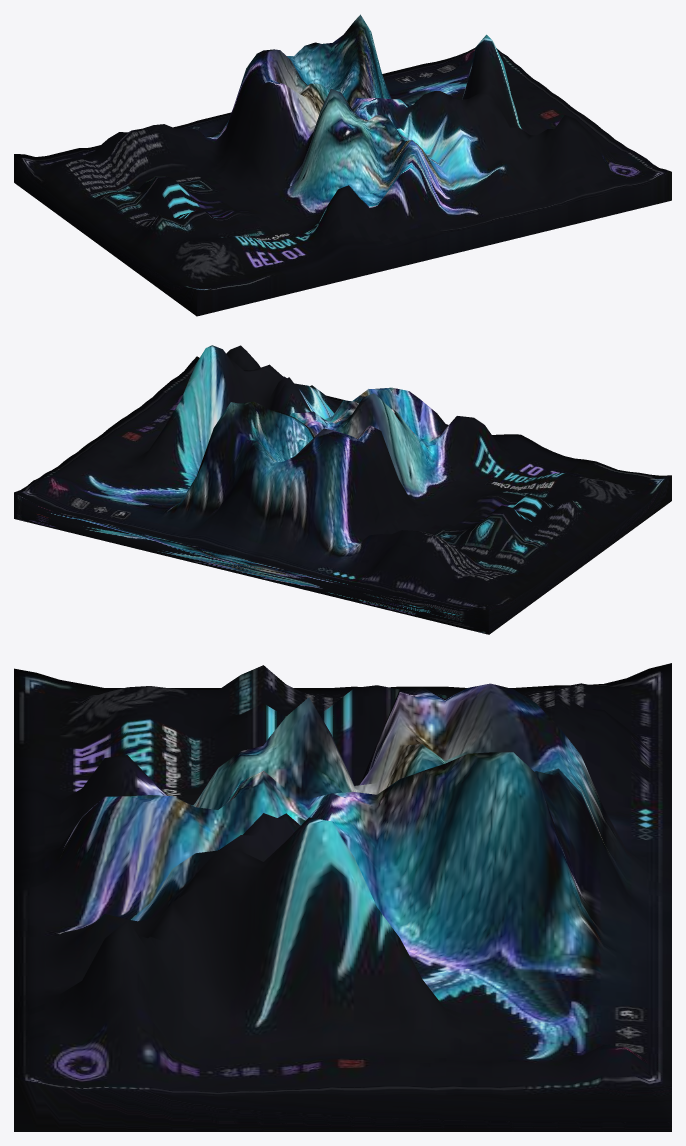
File: PET_01_Dragon.glb
The picture shows the model from 3 angles, top to bottom: view 1: azimuth 30°, elevation 25°; view 2: azimuth 150°, elevation 25°; view 3: azimuth 270°, elevation 25°; orthographic projection. The views are drawn at different scales.
Parts seen in each view (by area): view 1: PET_01_Dragon; view 2: PET_01_Dragon; view 3: PET_01_Dragon.
Part boxes in pixels (box(x1,y1,x2,y2)): PET_01_Dragon: box(14, 14, 671, 316); PET_01_Dragon: box(14, 345, 671, 634); PET_01_Dragon: box(14, 663, 671, 1131).
Bounding box in the file's own units: 2 × 0.51 × 1.33.
Materials: 1 (1 with a texture image).
